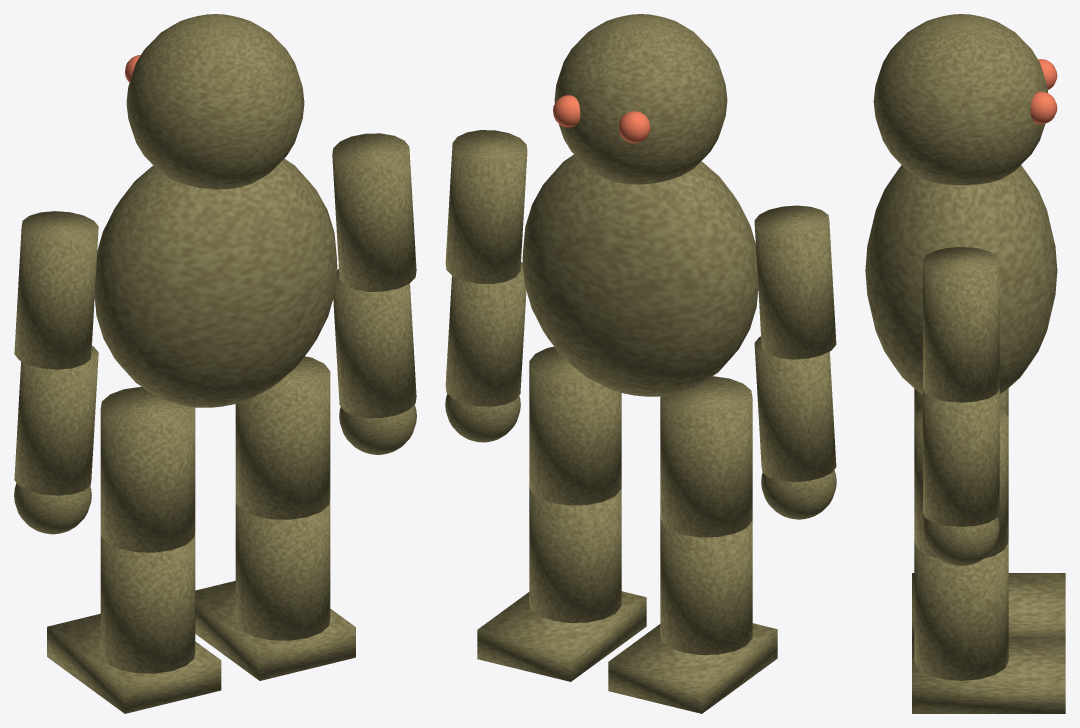
File: puca.glb
3 renders of one model, left to right at view 1: azimuth 30°, elevation 25°; view 2: azimuth 150°, elevation 25°; view 3: azimuth 270°, elevation 25°, orthographic. The views are drawn at different scales.
Visible parts, largest first — view 1: Torso, Head, ThighL, ThighR, UpperArmR, UpperArmL, ShinR, ShinL, ForearmL, ForearmR, FootL, FootR (+2 smaller); view 2: Torso, Head, ThighL, ThighR, UpperArmR, UpperArmL, ShinR, ShinL, ForearmL, ForearmR, FootL, FootR (+4 smaller); view 3: Torso, Head, UpperArmR, ShinR, ForearmR, FootR, FootL, ThighR, HandR, Eye.001, ThighL, Eye.
Boxes of the visible parts, x1,y1,x2,y2 form: Torso: (94,158,337,407); Head: (126,14,304,189); ThighL: (100,386,195,552); ThighR: (235,356,330,519); UpperArmR: (332,133,416,291); UpperArmL: (14,211,98,369); ShinR: (235,498,330,640); ShinL: (100,532,195,673); ForearmL: (14,346,98,495); ForearmR: (333,269,416,418); FootL: (47,613,221,713); FootR: (195,581,355,680); Torso: (522,154,758,396); Head: (554,14,727,184); ThighL: (660,376,752,537); ThighR: (529,346,621,505); UpperArmR: (445,130,527,283); UpperArmL: (754,205,836,359); ShinR: (529,484,621,622); ShinL: (660,516,752,654); ForearmL: (754,336,836,481); ForearmR: (445,262,526,406); FootL: (608,623,777,713); FootR: (477,591,646,681); Torso: (865,165,1057,394); Head: (873,14,1047,185); UpperArmR: (923,247,999,402); ShinR: (914,542,1008,680); ForearmR: (923,389,999,526); FootR: (912,637,1065,713); FootL: (912,573,1065,637); ThighR: (914,407,1008,558); HandR: (923,517,999,566); Eye.001: (1030,91,1057,124); ThighL: (914,388,1008,416); Eye: (1038,59,1057,89).
Size of the model in its own units: 0.6367 by 1 by 0.2852.
3 materials, 2 textured.
